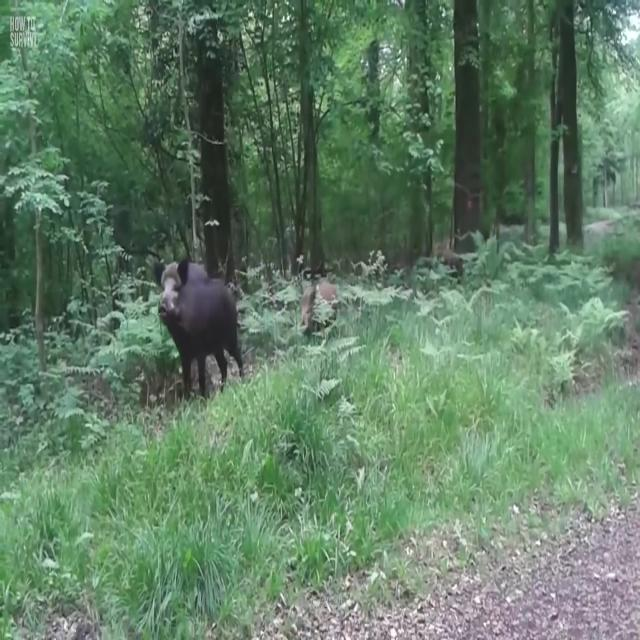pig: (142, 248, 260, 381)
